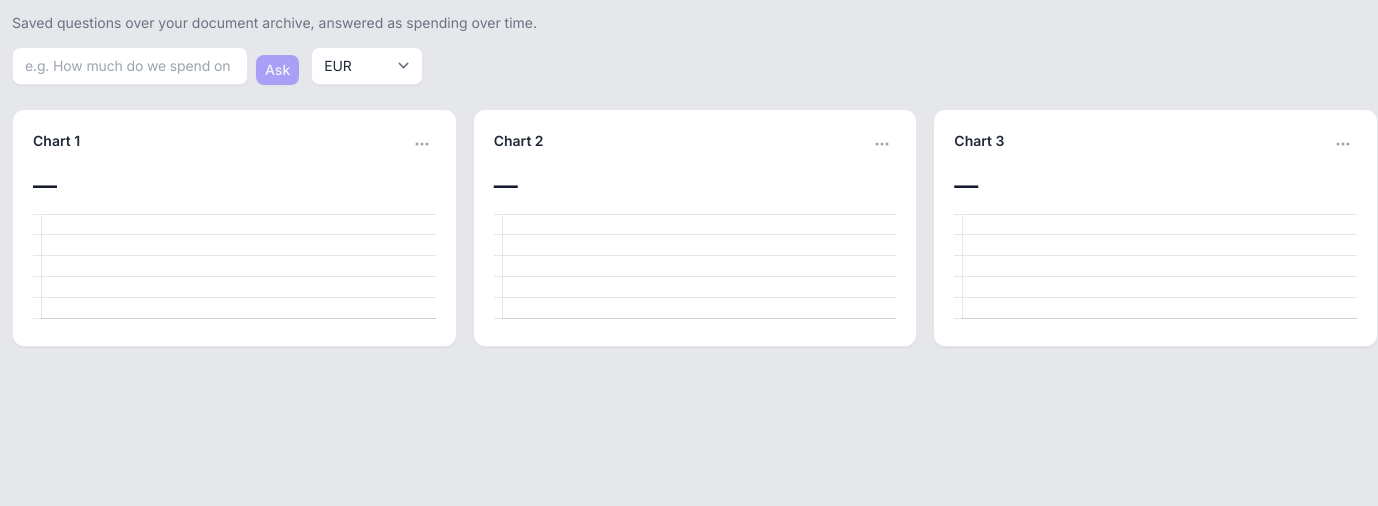
SpendingBoardView › renames a card and keeps the board in sync
The image size is (1378, 506).
Step 1. Click the button with test id "spending-card-menu" → (422,144), box [408,130,436,158]
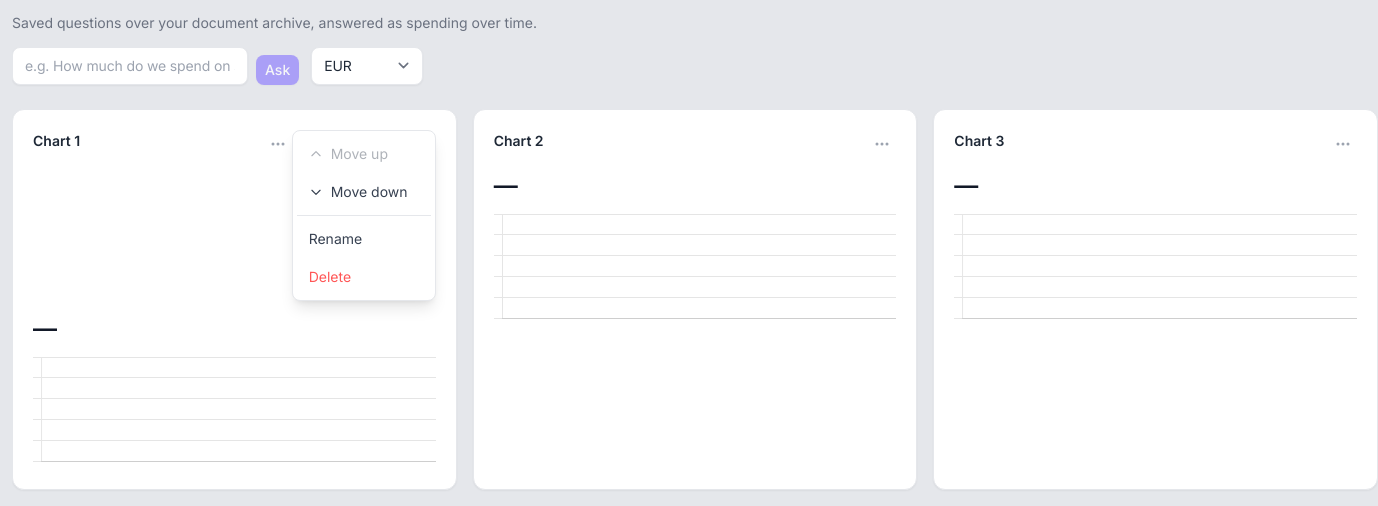
Step 2. Click the menu item with test id "spending-card-rename" → (364,239), box [297,220,431,258]
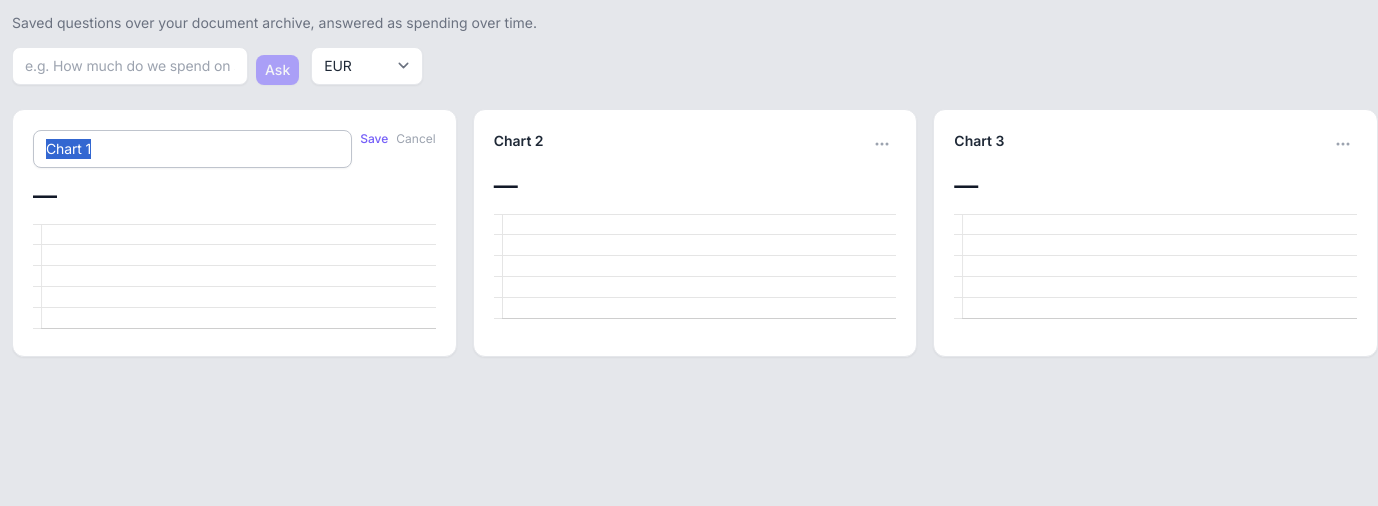
Step 3. Replace the text in the field with test id "spending-card-rename-input" with "Renamed chart" → (193,149), box [33,130,352,168]
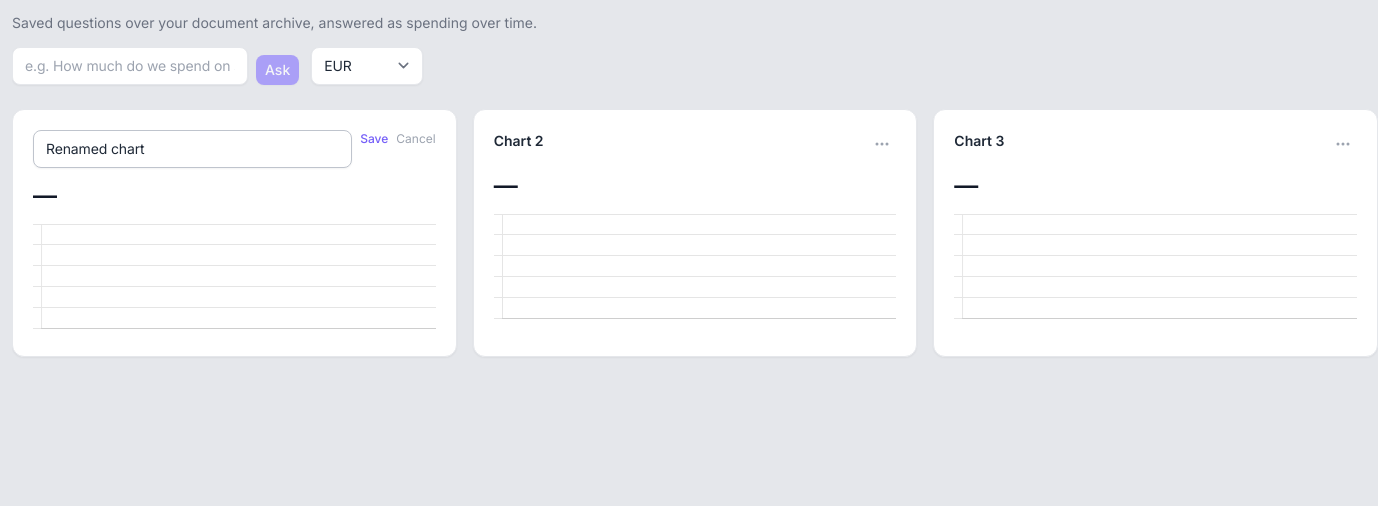
Step 4. Click the button with test id "spending-card-rename-save" → (374,139), box [360,130,388,148]
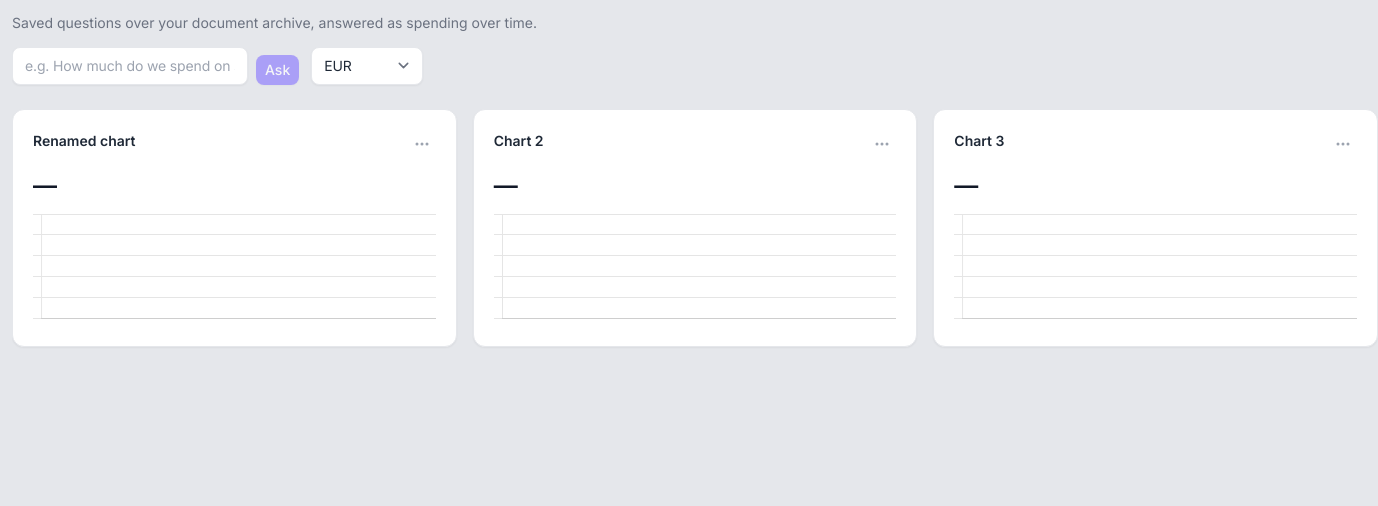
Expected: the link with test id "spending-card-name" reads "Renamed chart", [33,132,136,149]
